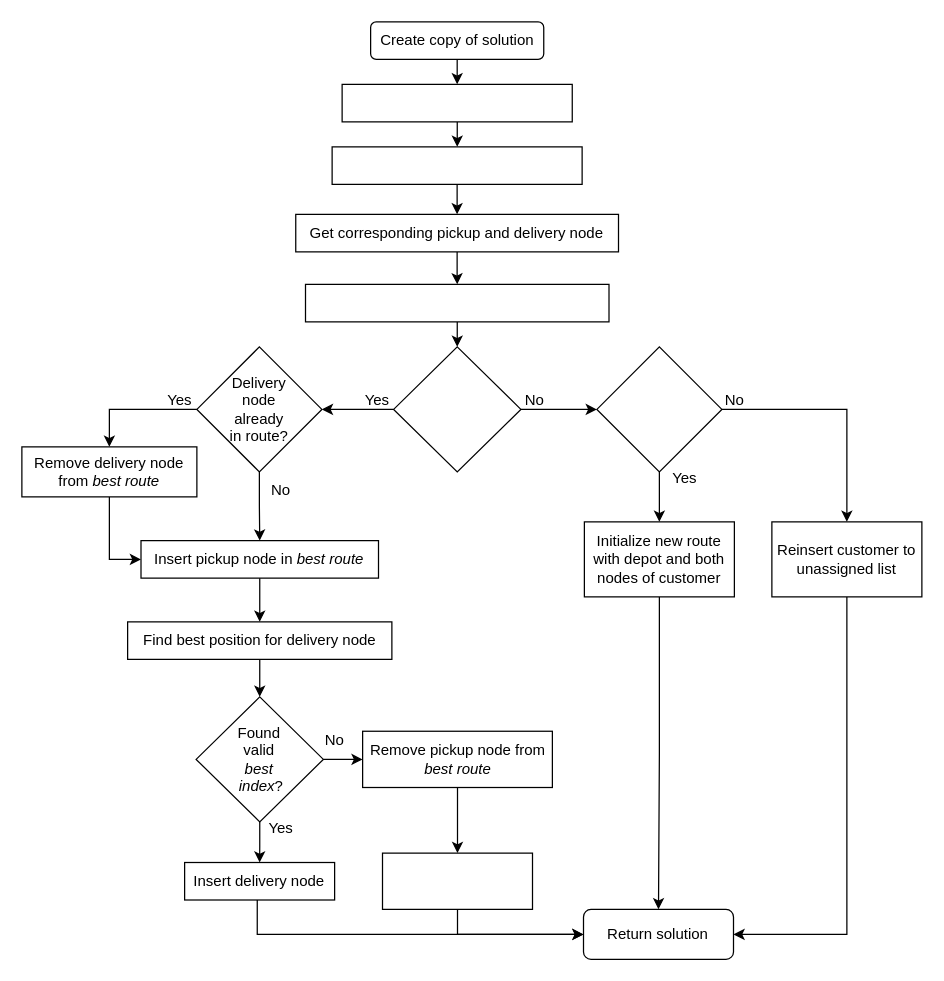
The diagram is 944 pixels wide and 981 high, and some of its shapes have lost their labels. Here are the shapes that lost their labels. From the top down, the centre of each, then its label:
At point (456, 102): "Shuffle unassigned customers".
At point (456, 165): "Loop over unassigned customers".
At point (456, 302): "Find best route and position for pickup node".
At point (456, 409): "Found valid best route ?".
At point (659, 409): "Can begin a new route?".
At point (456, 880): "Removal procedure without delivery node".
